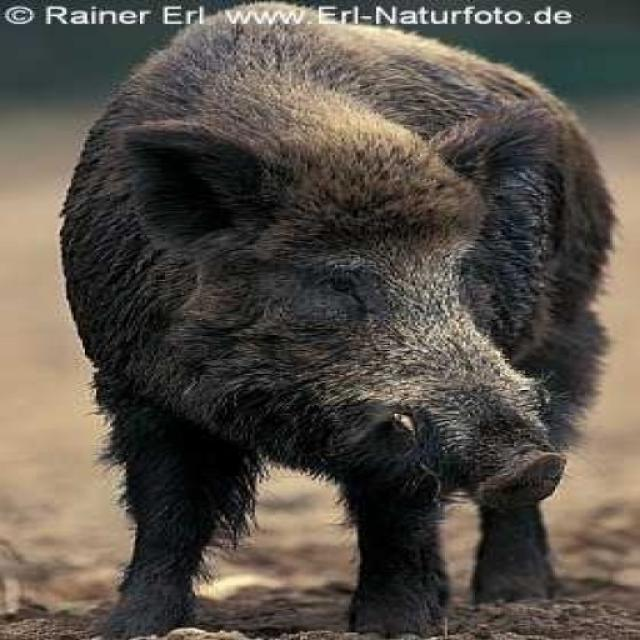pig: (48, 0, 625, 640)
